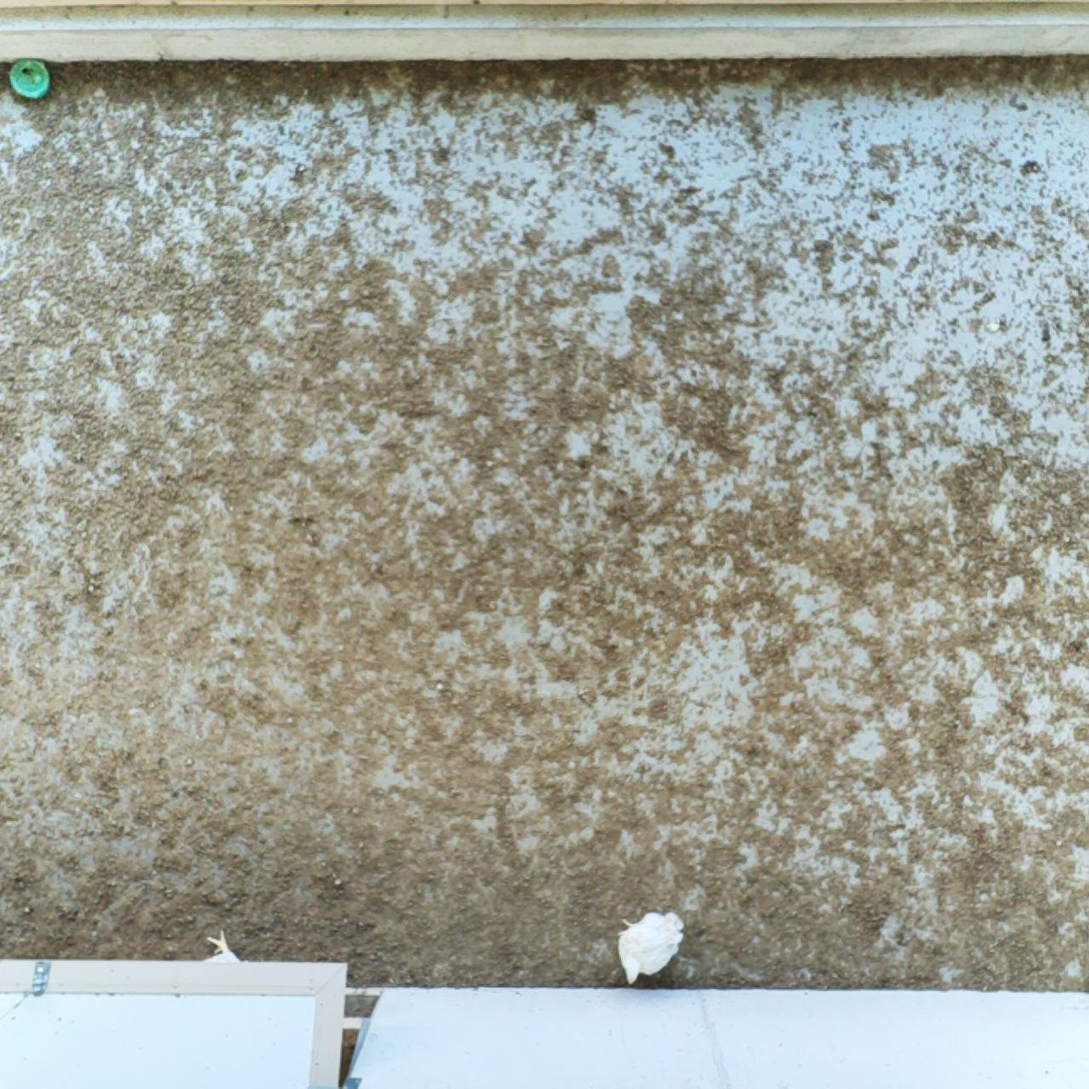chicken: (616, 908, 686, 988), (179, 927, 243, 1001)
